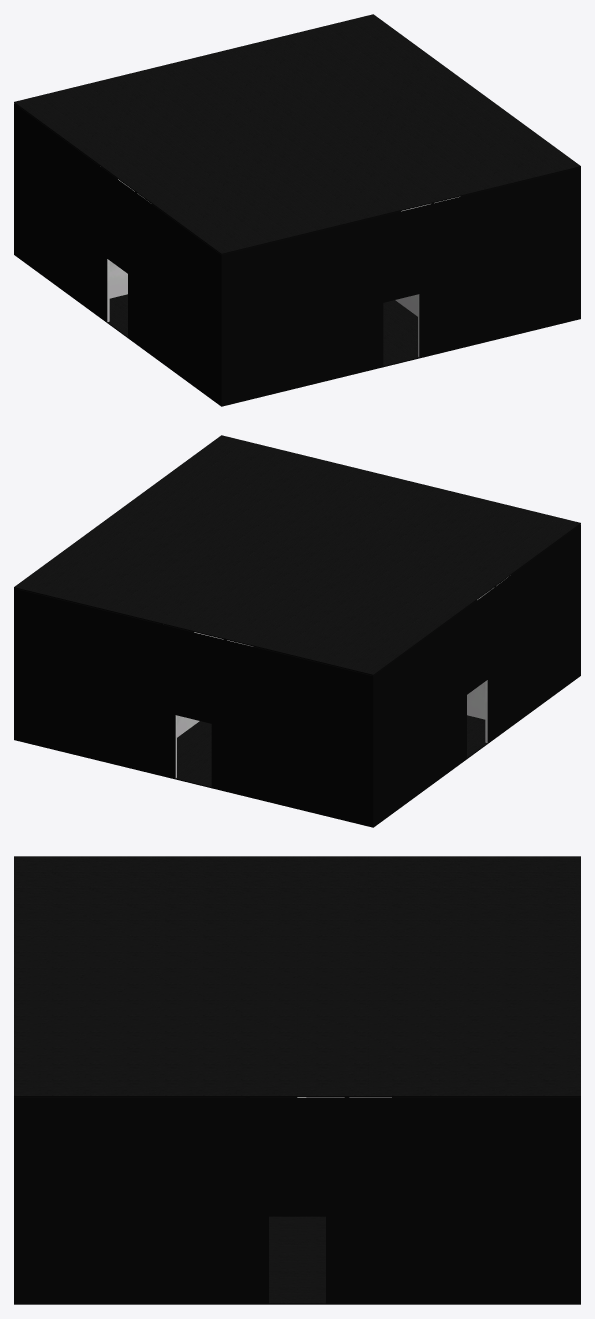
File: XCross3.fbx
3 views of the same model, one above another, from view 1: azimuth 30°, elevation 25°; view 2: azimuth 150°, elevation 25°; view 3: azimuth 270°, elevation 25° (orthographic). The views are drawn at different scales.
Visible parts, largest first — view 1: node_id28 (×3); view 2: node_id28 (×3); view 3: node_id28 (×2).
Part boxes in pixels (x1,y1,x2,y2): node_id28 (×3): (14,14,580,406); node_id28 (×3): (14,435,580,827); node_id28 (×2): (14,856,580,1304).
Size of the model in its own units: 0.512 by 0.2082 by 0.512.
19 materials, 10 textured.
